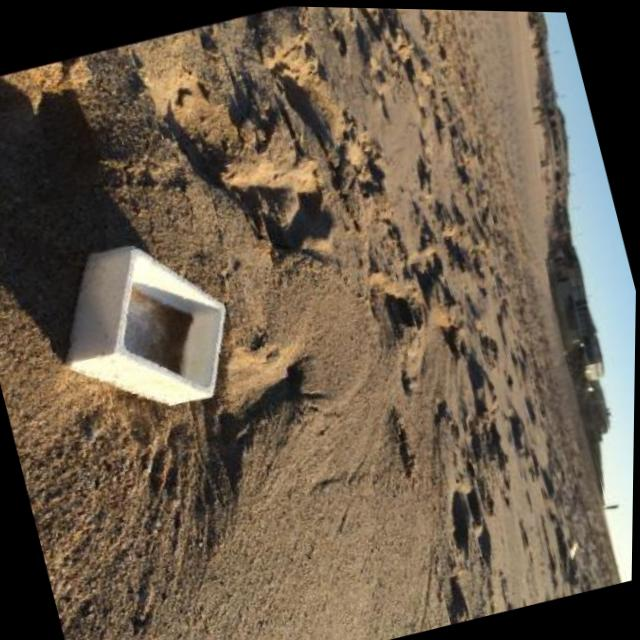foam: (38, 219, 247, 431)
